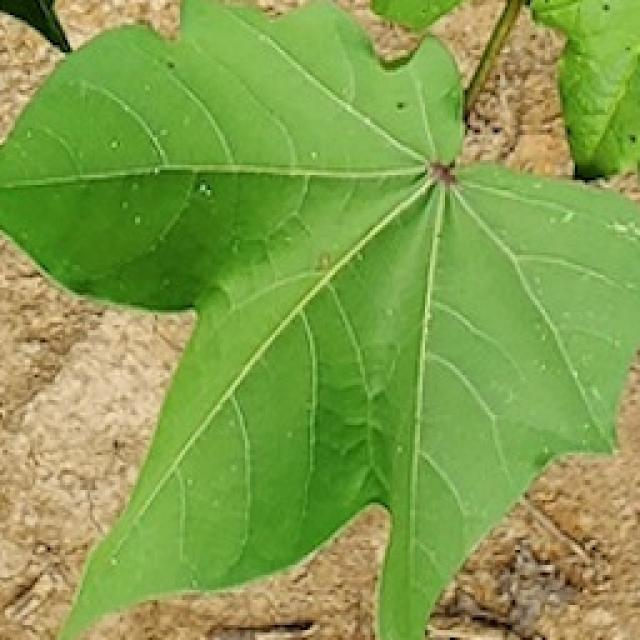Healthy Leaf: (39, 14, 600, 560)
